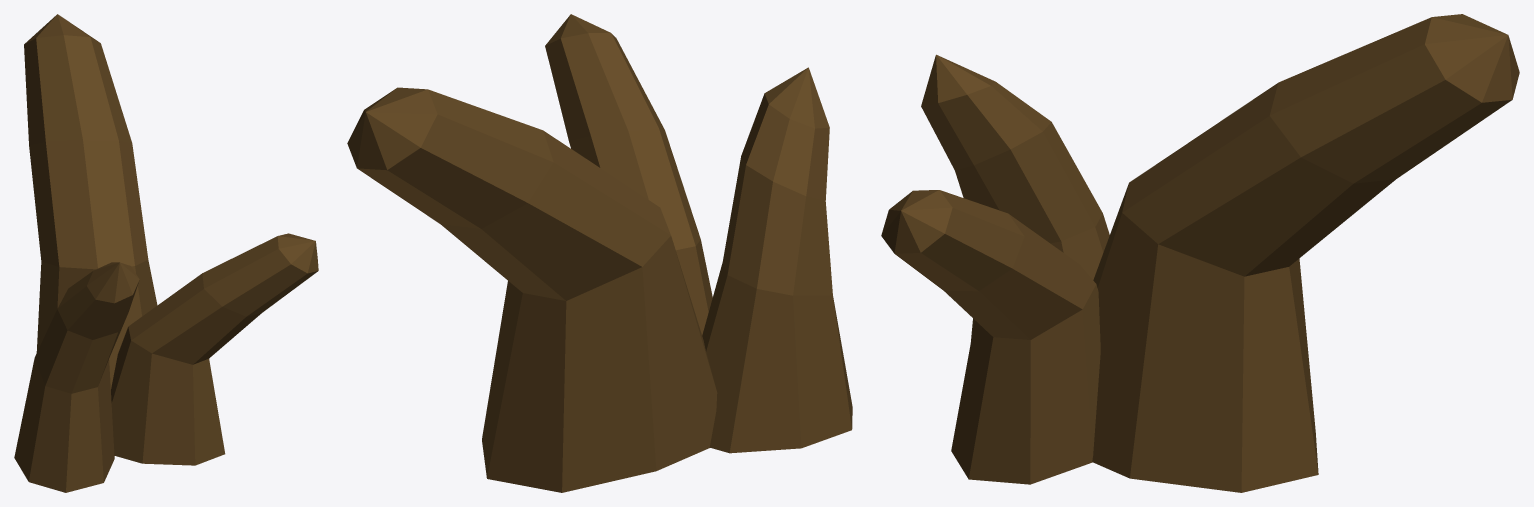
The model's file is dead.glb.
3 renders of one model, left to right at view 1: azimuth 30°, elevation 25°; view 2: azimuth 150°, elevation 25°; view 3: azimuth 270°, elevation 25°, orthographic. The views are drawn at different scales.
Parts seen in each view (by area): view 1: Cylinder.018, Cylinder.019, Cylinder.020; view 2: Cylinder.018, Cylinder.020, Cylinder.019; view 3: Cylinder.018, Cylinder.019, Cylinder.020.
Part boxes in pixels (x1,y1,x2,y2): Cylinder.018: (24, 14, 157, 389); Cylinder.019: (111, 233, 318, 465); Cylinder.020: (14, 262, 139, 492); Cylinder.018: (347, 87, 717, 492); Cylinder.020: (702, 67, 852, 453); Cylinder.019: (545, 14, 712, 335); Cylinder.018: (1092, 14, 1519, 492); Cylinder.019: (881, 190, 1100, 484); Cylinder.020: (921, 54, 1109, 342).
Bounding box in the file's own units: 0.635 × 0.7389 × 0.9269.
